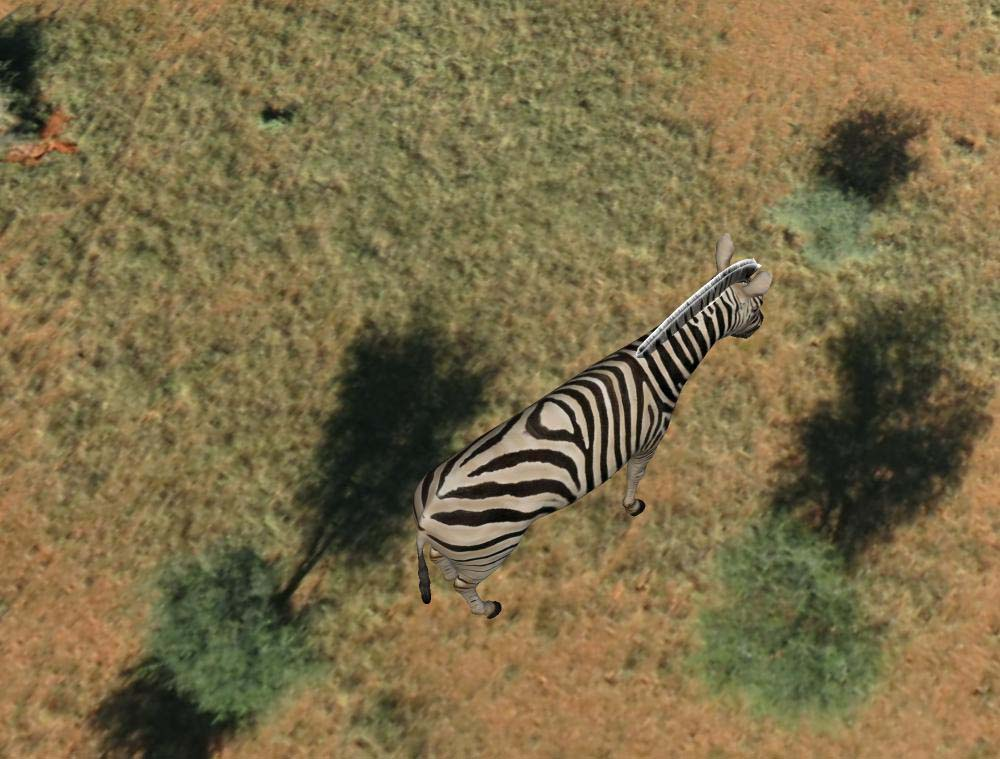zebra: (409, 251, 769, 619)
